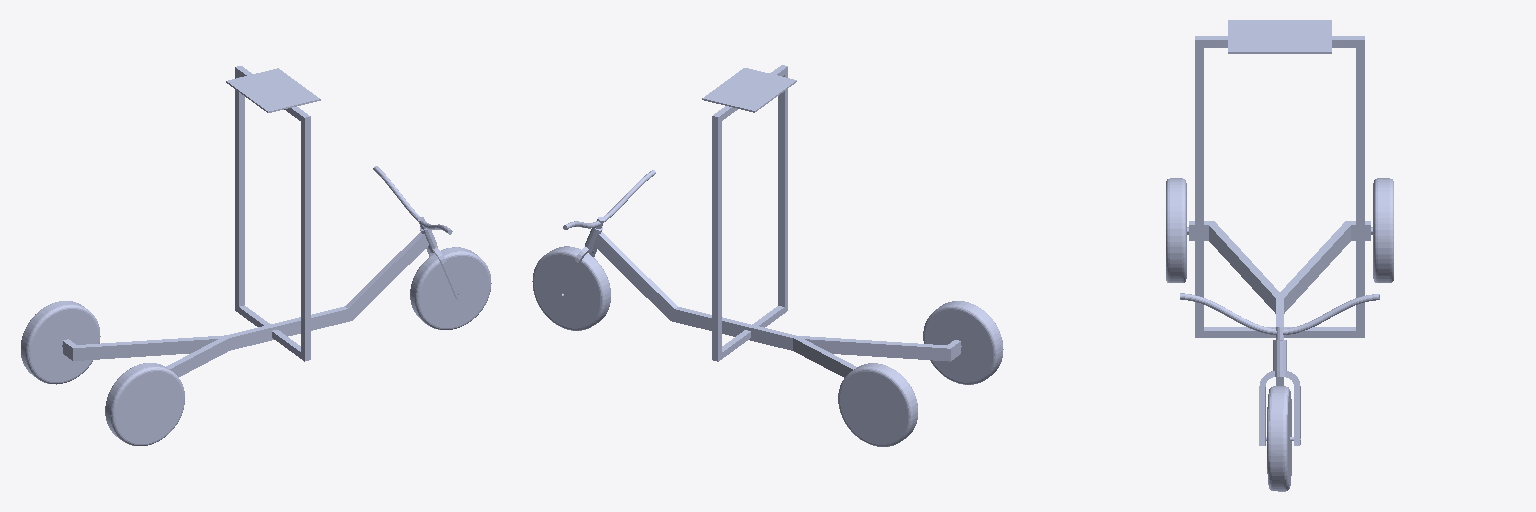
The robot description file, URDF, robot "e_rick":
<?xml version="1.0" encoding="utf-8"?>
<!-- This URDF was automatically created by SolidWorks to URDF Exporter! Originally created by [author] ([email redacted]) 
     Commit Version: 1.6.0-1-g15f4949  Build Version: 1.6.7594.29634
     For more information, please see http://wiki.ros.org/sw_urdf_exporter -->
<robot
  name="e_rick">
<gazebo>
    <plugin name="gazebo_ros_control" filename="libgazebo_ros_control.so">
      <robotNamespace>/e_rick</robotNamespace>
      <robotSimType>gazebo_ros_control/DefaultRobotHWSim</robotSimType>
    </plugin>
  </gazebo>
  <link
    name="Chassis">
    <inertial>
      <origin
        xyz="0.0179015432099166 0.00883157016107548 0.555493054780107"
        rpy="0 0 0" />
      <mass
        value="5.94108220023936" />
      <inertia
        ixx="2.86961489353881"
        ixy="-3.21160082509927E-06"
        ixz="-0.289647829977624"
        iyy="3.52332660507633"
        iyz="1.34393979355656E-06"
        izz="1.34842872812582" />
    </inertial>
    <visual>
      <origin
        xyz="0 0 0"
        rpy="0 0 0" />
      <geometry>
        <mesh
          filename="package://e_rick/meshes/Chassis.STL" />
      </geometry>
      <material
        name="">
        <color
          rgba="0.792156862745098 0.819607843137255 0.933333333333333 1" />
      </material>
    </visual>
    <collision>
      <origin
        xyz="0 0 0"
        rpy="0 0 0" />
      <geometry>
        <mesh
          filename="package://e_rick/meshes/Chassis.STL" />
      </geometry>
    </collision>
  </link>
  <link
    name="Fork">
    <inertial>
      <origin
        xyz="-8.17522745055754E-08 -1.28205918586699E-05 0.384873519969362"
        rpy="0 0 0" />
      <mass
        value="1.53594277272077" />
      <inertia
        ixx="0.114922939125292"
        ixy="-3.60131546823378E-08"
        ixz="3.41082460689732E-08"
        iyy="0.063659112873893"
        iyz="1.2245690536632E-06"
        izz="0.0514845803045497" />
    </inertial>
    <visual>
      <origin
        xyz="0 0 0"
        rpy="0 0 0" />
      <geometry>
        <mesh
          filename="package://e_rick/meshes/Fork.STL" />
      </geometry>
      <material
        name="">
        <color
          rgba="0.792156862745098 0.819607843137255 0.933333333333333 1" />
      </material>
    </visual>
    <collision>
      <origin
        xyz="0 0 0"
        rpy="0 0 0" />
      <geometry>
        <mesh
          filename="package://e_rick/meshes/Fork.STL" />
      </geometry>
    </collision>
  </link>
  <joint
    name="Fork_joint"
    type="continuous">
    <origin
      xyz="1.21005005042187 0.00883090850402383 -0.18955344944057"
      rpy="0.0208324376805739 -0.383434898651884 -0.0556361840402595" />
    <parent
      link="Chassis" />
    <child
      link="Fork" />
    <axis
      xyz="0 0 1" />
      <!-- <limit upper="0.3975" lower="-0.3975" />
      </axis> -->
  </joint>
  <link
    name="Front_wheel">
    <inertial>
      <origin
        xyz="-1.55431223447522E-15 1.2490009027033E-15 -0.00162499999999997"
        rpy="0 0 0" />
      <mass
        value="17.1808091995759" />
      <inertia
        ixx="0.259198802825552"
        ixy="-3.3881317890172E-19"
        ixz="6.07153216591882E-18"
        iyy="0.259198802825552"
        iyz="6.59194920871187E-17"
        izz="0.492901062488341" />
    </inertial>
    <visual>
      <origin
        xyz="0 0 0"
        rpy="0 0 0" />
      <geometry>
        <mesh
          filename="package://e_rick/meshes/Front_wheel.STL" />
      </geometry>
      <material
        name="">
        <color
          rgba="0.792156862745098 0.819607843137255 0.933333333333333 1" />
      </material>
    </visual>
    <collision>
      <origin
        xyz="0 0 0"
        rpy="0 0 0" />
      <geometry>
        <mesh
          filename="package://e_rick/meshes/Front_wheel.STL" />
      </geometry>
      <!-- <max_contacts>1</max_contacts>
        <surface>
          <friction>
            <ode>
              <mu>0.5</mu>
              <mu2>0.5</mu2>
              <fdir1>2 .5 .5</fdir1>
              <slip1>0.0</slip1>
              <slip2>0.0</slip2>
            </ode>
          </friction>
          <contact>
            <ode>
              <min_depth>0.001</min_depth>
              <kp>1e9</kp>
            </ode>
          </contact>
        </surface> -->
    </collision>
  </link>
  <joint
    name="Front_wheel_joint"
    type="continuous">
    <origin
      xyz="0 0 0"
      rpy="1.5707963267949 -0.393234835424218 3.14159265358979" />
    <parent
      link="Fork" />
    <child
      link="Front_wheel" />
    <axis
      xyz="0 0 1" />
    <!-- <limit>
    <velocity "3000"/>
    </limit> -->
  </joint>
  <link
    name="Rear_wheel_1">
    <inertial>
      <origin
        xyz="0 0 -0.000103679096847109"
        rpy="0 0 0" />
      <mass
        value="17.1923341322256" />
      <inertia
        ixx="0.259279784775858"
        ixy="0"
        ixz="2.49126071873759E-19"
        iyy="0.259279784775858"
        iyz="2.14595267342508E-19"
        izz="0.492902563364008" />
    </inertial>
    <visual>
      <origin
        xyz="0 0 0"
        rpy="0 0 0" />
      <geometry>
        <mesh
          filename="package://e_rick/meshes/Rear_wheel_1.STL" />
      </geometry>
      <material
        name="">
        <color
          rgba="0.792156862745098 0.819607843137255 0.933333333333333 1" />
      </material>
    </visual>
    <collision>
      <origin
        xyz="0 0 0"
        rpy="0 0 0" />
      <geometry>
        <mesh
          filename="package://e_rick/meshes/Rear_wheel_1.STL" />
      </geometry>
      <!-- <max_contacts>1</max_contacts>
        <surface>
          <friction>
            <ode>
              <mu>0.5</mu>
              <mu2>0.5</mu2>
              <fdir1>2 0.5 0.5</fdir1>
              <slip1>0.0</slip1>
              <slip2>0.0</slip2>
            </ode>
          </friction>
          <contact>
            <ode>
              <min_depth>0.001</min_depth>
              <kp>1e9</kp>
            </ode>
          </contact>
        </surface> -->
    </collision>
  </link>
  <joint
    name="Rear_wheel_1_joint"
    type="continuous">
    <origin
      xyz="-1.05040375431683 -0.467894091495976 -0.189915295409822"
      rpy="1.5707963267949 0.711070783946853 0" />
    <parent
      link="Chassis" />
    <child
      link="Rear_wheel_1" />
    <axis
      xyz="0 0 1" />
    <!-- <limit>
    <velocity "3000"/>
    </limit> -->
  </joint>
  <link
    name="Rear_wheel_2">
    <inertial>
      <origin
        xyz="0 0 -0.000103679096847109"
        rpy="0 0 0" />
      <mass
        value="17.1923341322256" />
      <inertia
        ixx="0.259279784775858"
        ixy="-1.66063671354125E-17"
        ixz="-5.46826310106561E-20"
        iyy="0.259279784775858"
        iyz="-1.25669343412388E-18"
        izz="0.492902563364008" />
    </inertial>
    <visual>
      <origin
        xyz="0 0 0"
        rpy="0 0 0" />
      <geometry>
        <mesh
          filename="package://e_rick/meshes/Rear_wheel_2.STL" />
      </geometry>
      <material
        name="">
        <color
          rgba="0.792156862745098 0.819607843137255 0.933333333333333 1" />
      </material>
    </visual>
    <collision>
      <origin
        xyz="0 0 0"
        rpy="0 0 0" />
      <geometry>
        <mesh
          filename="package://e_rick/meshes/Rear_wheel_2.STL" />
      </geometry>
      <!-- <max_contacts>1</max_contacts>
        <surface>
          <friction>
            <ode>
              <mu>0.5</mu>
              <mu2>0.5</mu2>
              <fdir1>2 .5 .5</fdir1>
              <slip1>0.0</slip1>
              <slip2>0.0</slip2>
            </ode>
          </friction>
          <contact>
            <ode>
              <min_depth>0.001</min_depth>
              <kp>1e9</kp>
            </ode>
          </contact>
        </surface> -->
    </collision>
  </link>
  <joint
    name="Rear_wheel_2_joint"
    type="continuous">
    <origin
      xyz="-1.05040375431683 0.485555908504024 -0.189915295409822"
      rpy="1.5707963267949 0 3.14159265358979" />
    <parent
      link="Chassis" />
    <child
      link="Rear_wheel_2" />
    <axis
      xyz="0 0 1" />
    <!-- <limit>
    <velocity "3000"/>
    </limit> -->
  </joint>

 <!--velodyne-->

 
  <!-- <joint name="${name}_base_mount_joint" type="continuous">
      <xacro:insert_block name="origin" />
      <parent link="${namespace}/${parent}"/>
      <child link="${namespace}/${name}"/>
     
      <axis xyz="1 0 0" rpy="0 0 0" />
      <limit effort="100" velocity="1"/>
      <joint_properties damping="0.0" friction="0.0"/>
    </joint> -->

  <!-- Transmission is important to link the joints and the controller -->




<gazebo reference="laser_link">
    <sensor type="ray" name="VLP16">
      <pose>0 0 0 0 0 0</pose>
      <visualize>false</visualize>
      <update_rate>40</update_rate>
      <ray>
        <scan>
          <horizontal>
            <samples>360</samples>
            <resolution>1</resolution>
            <min_angle>-1.570796</min_angle>
            <max_angle>1.570796</max_angle>
          </horizontal>
          <vertical>
            <samples>16</samples>
            <resolution>1</resolution>
            <min_angle>-1.570796</min_angle>
            <max_angle>1.570796</max_angle>
          </vertical>
        </scan>
        <range>
          <min>0.10</min>
          <max>30.0</max>
          <resolution>0.01</resolution>
        </range>
        <noise>
          <type>gaussian</type>
          <!-- Noise parameters based on published spec for Hokuyo laser
               achieving "+-30mm" accuracy at range < 10m.  A mean of 0.0m and
               stddev of 0.01m will put 99.7% of samples within 0.03m of the true
               reading. -->
          <mean>0.0</mean>
          <stddev>0.01</stddev>
        </noise>
      </ray>
      <plugin name="gazebo_ros_laser_controller" filename="libgazebo_ros_velodyne_laser.so">
      <alwaysOn>true</alwaysOn>
      <updateRate>100.0</updateRate>
      <velocity>50</velocity>
      <MotorJoint>laser_joint</MotorJoint>
      <torque>60</torque>
      <broadcastTF>1</broadcastTF>
        <topicName>/velodyne_points</topicName>
        <frameName>laser_link</frameName>
      </plugin>
    </sensor>
  </gazebo>

<link name="laser_link">
    <collision>
      <origin xyz="0 0 0" rpy="0 0 0"/>
      <geometry>
	    <box size="0.1 0.1 0.1"/>
      </geometry>
    </collision>

    <visual>
      <origin xyz="0 0 0" rpy="0 0 0"/>
      <geometry>
        <mesh filename="package://e_rick/meshes/hokuyo.dae"/>
      </geometry>
    </visual>

    <inertial>
      <mass value="1e-5" />
      <origin xyz="0 0 0" rpy="0 0 0"/>
      <inertia ixx="1e-6" ixy="0" ixz="0" iyy="1e-6" iyz="0" izz="1e-6" />
    </inertial>
  </link>
 <joint name="laser_joint" type="continuous">
    <axis xyz="0 1 0" />
    <origin xyz="0 0 1.348" rpy="0 0 0"/>
    <parent link="Chassis"/>
    <child link="laser_link"/>
    <limit effort="100" velocity="100"/>
    <joint_properties damping="0.0" friction="0.0"/>
  </joint>
<!-- 
    <transmission name="laser_trans">
      <type>transmission_interface/SimpleTransmission</type>
      <joint name="laser_joint">
     <hardwareInterface>hardware_interface/EffortJointInterface</hardwareInterface>
      </joint>
      <actuator name="laser_joint_motor">
    <hardwareInterface>hardware_interface/EffortJointInterface</hardwareInterface>
        <mechanicalReduction>1</mechanicalReduction>
      </actuator>
    </transmission> -->


<!--velodyne ends-->


  <transmission name="tran1">
    <type>transmission_interface/SimpleTransmission</type>
    <joint name="Rear_wheel_1_joint">
      <hardwareInterface>hardware_interface/VelocityJointInterface</hardwareInterface>
    </joint>
    <actuator name="motor1">
      <hardwareInterface>hardware_interface/VelocityJointInterface</hardwareInterface>
      <mechanicalReduction>1</mechanicalReduction>
    </actuator>
  </transmission>

	<transmission name="tran2">
    <type>transmission_interface/SimpleTransmission</type>
    <joint name="Rear_wheel_2_joint">
      <hardwareInterface>hardware_interface/VelocityJointInterface</hardwareInterface>
    </joint>
    <actuator name="motor2">
      <hardwareInterface>hardware_interface/VelocityJointInterface</hardwareInterface>
      <mechanicalReduction>1</mechanicalReduction>
    </actuator>
  </transmission>

  	<!-- <transmission name="tran3">
    <type>transmission_interface/SimpleTransmission</type>
    <joint name="Front_wheel_joint">
      <hardwareInterface>hardware_interface/VelocityJointInterface</hardwareInterface>
    </joint>
    <actuator name="motor3">
      <hardwareInterface>hardware_interface/VelocityJointInterface</hardwareInterface>
      <mechanicalReduction>1</mechanicalReduction>
    </actuator>
  </transmission> -->

  	<transmission name="tran3">
    <type>transmission_interface/SimpleTransmission</type>
    <joint name="Fork_joint">
      <hardwareInterface>hardware_interface/EffortJointInterface</hardwareInterface>
    </joint>
    <actuator name="motor3">
      <hardwareInterface>hardware_interface/EffortJointInterface</hardwareInterface>
      <mechanicalReduction>1</mechanicalReduction>
    </actuator>
  </transmission>



<gazebo reference="Rear_wheel_1">
    <material>Gazebo/Black</material>
  </gazebo>
<gazebo reference="Rear_wheel_2">
    <material>Gazebo/Black</material>
  </gazebo>
  <gazebo reference="Front_wheel">
    <material>Gazebo/Black</material>
  </gazebo>
  <gazebo reference="Fork">
    <material>Gazebo/Red</material>
  </gazebo>
</robot>

--- What the picture shows (computed from the rendered views, not written in the file) ---
Views: 3 orthographic renders of the robot side by side, from view 1: azimuth 30°, elevation 25°; view 2: azimuth 150°, elevation 25°; view 3: azimuth 270°, elevation 25°.
Robot: e_rick — 6 links, 5 joints (5 continuous); root link Chassis; default pose: every joint at zero.
Visible links, largest first — view 1: Chassis, Rear_wheel_1, Front_wheel, Rear_wheel_2, Fork; view 2: Chassis, Rear_wheel_2, Front_wheel, Rear_wheel_1, Fork; view 3: Chassis, Fork, Front_wheel, Rear_wheel_1, Rear_wheel_2.
Link boxes in pixels (x1=…): Chassis: x1=62, y1=66, x2=436, y2=376; Rear_wheel_1: x1=105, y1=363, x2=184, y2=445; Front_wheel: x1=410, y1=247, x2=491, y2=329; Rear_wheel_2: x1=21, y1=301, x2=100, y2=384; Fork: x1=373, y1=166, x2=461, y2=299; Chassis: x1=585, y1=65, x2=961, y2=377; Rear_wheel_2: x1=838, y1=363, x2=917, y2=446; Front_wheel: x1=532, y1=246, x2=610, y2=330; Rear_wheel_1: x1=923, y1=301, x2=1003, y2=384; Fork: x1=559, y1=170, x2=655, y2=299; Chassis: x1=1187, y1=20, x2=1372, y2=385; Fork: x1=1180, y1=293, x2=1379, y2=445; Front_wheel: x1=1266, y1=386, x2=1293, y2=491; Rear_wheel_1: x1=1166, y1=178, x2=1186, y2=282; Rear_wheel_2: x1=1373, y1=178, x2=1393, y2=282.
Bounding box of the posed robot: 2.74 × 1.05 × 1.74 m (x, y, z).
Meshes: 6 distinct files referenced, 5 mesh visuals loaded (5 binary STL); not drawn: 1 (reference not matched to a file when rendering).
